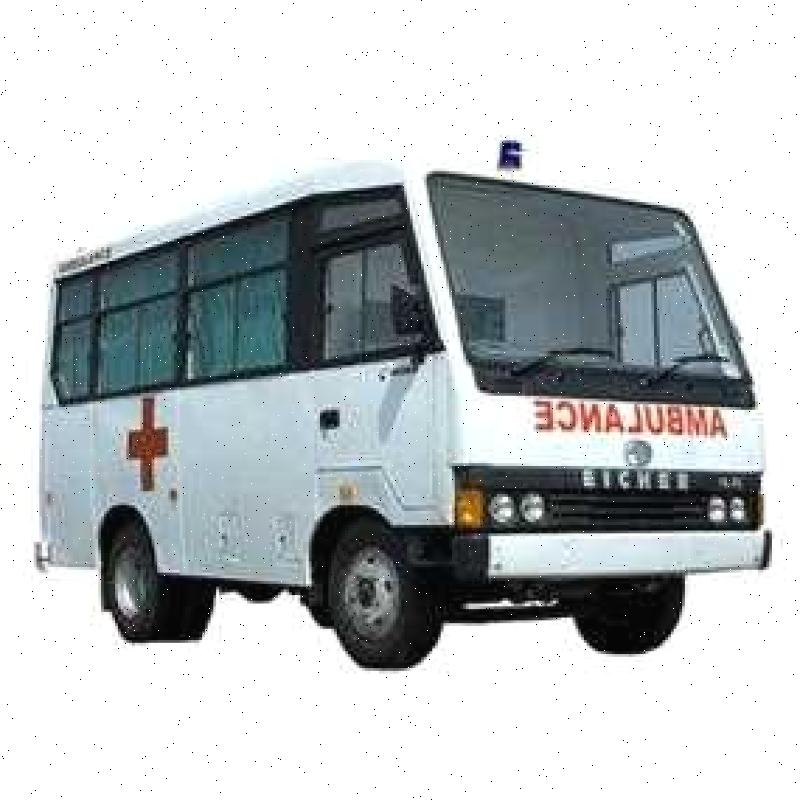AmbulanceSiren: (474, 118, 540, 202)
